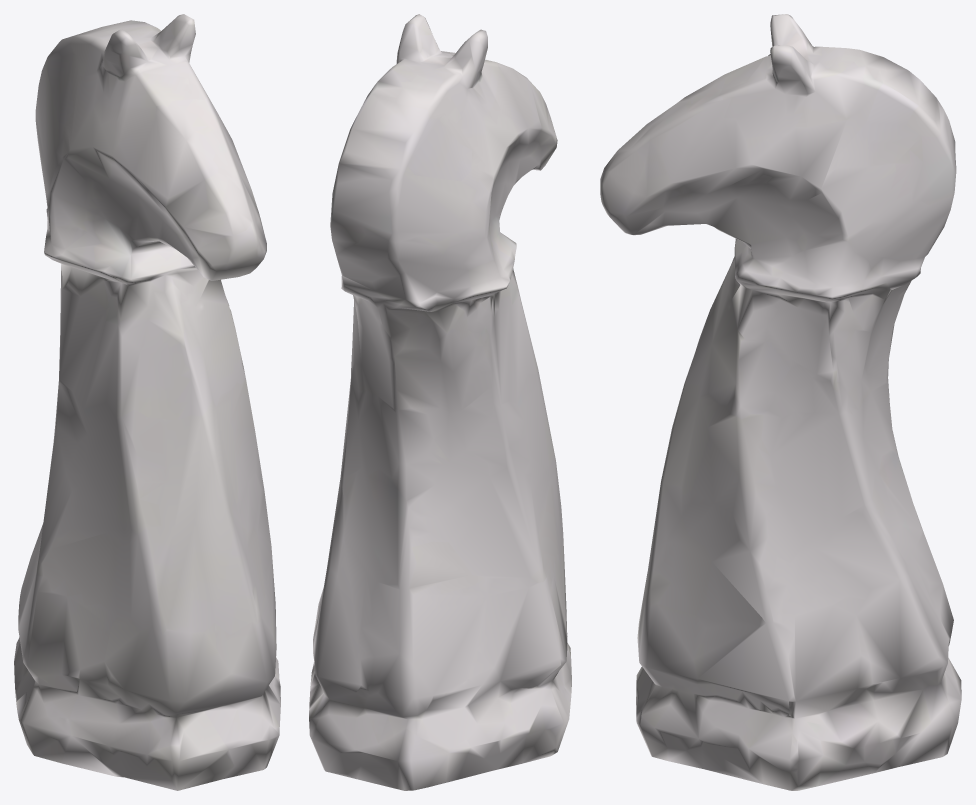
Rendered from hexa_knight_white.glb.
3 renders of one model, left to right at view 1: azimuth 30°, elevation 25°; view 2: azimuth 150°, elevation 25°; view 3: azimuth 270°, elevation 25°, orthographic.
Size of the model in its own units: 0.752 by 2 by 0.9279.
1 material, 1 textured.
